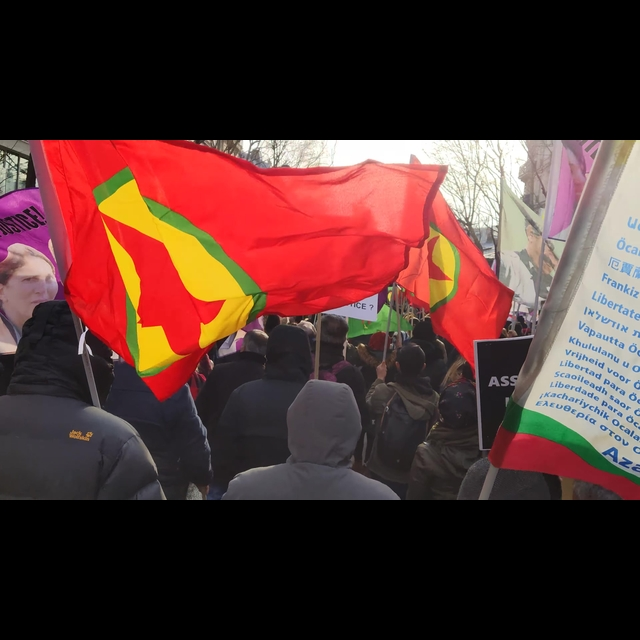PKK: (19, 142, 376, 402), (402, 153, 507, 380)
